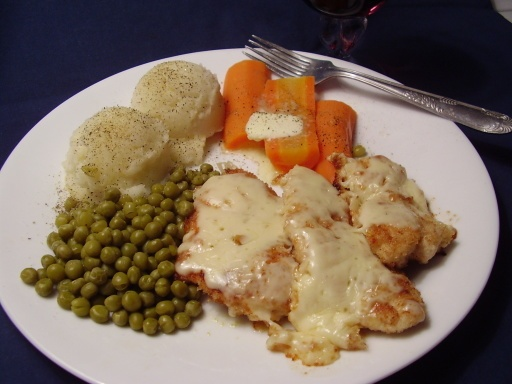background: (16, 35, 366, 220)
